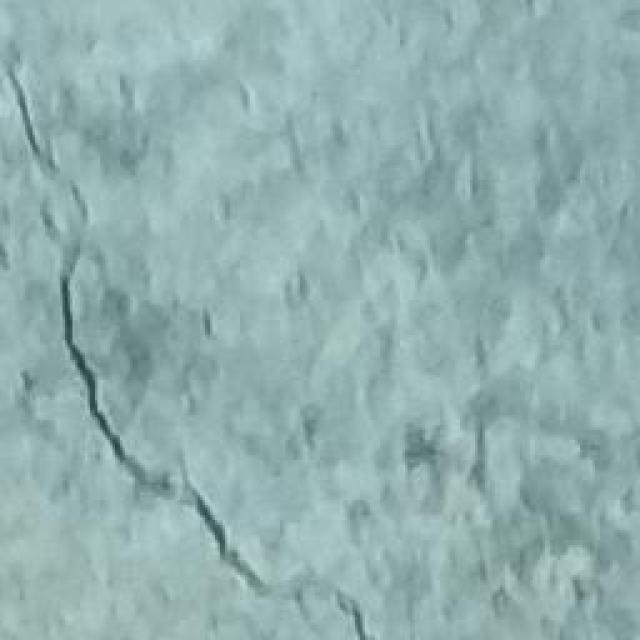Diagonal: (0, 50, 379, 640)
